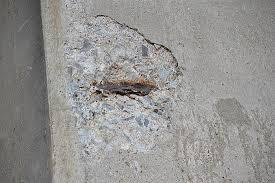Exposed reinforcement: (92, 80, 160, 100)
Spalling: (62, 1, 184, 154)
